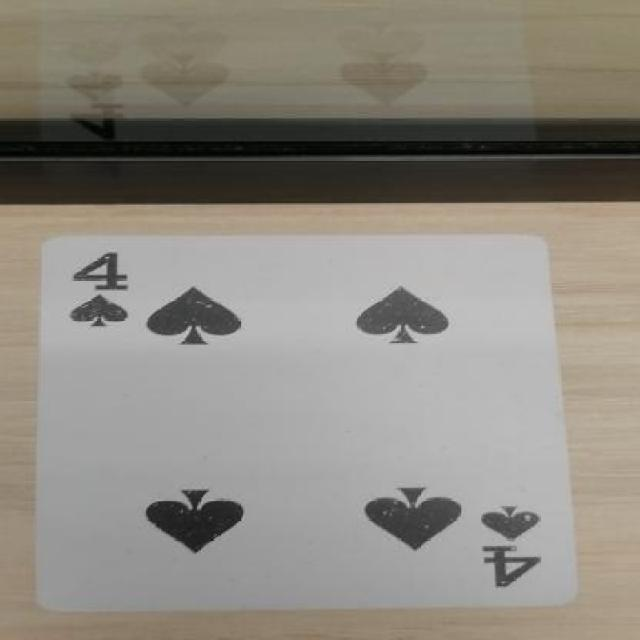4S: (42, 234, 166, 344), (470, 484, 552, 604)
